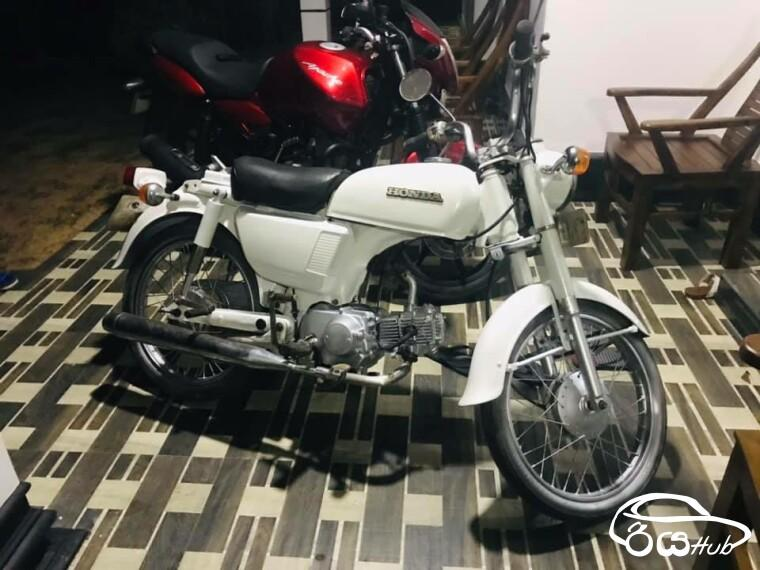motorbike: (102, 20, 668, 527), (119, 1, 458, 181)
